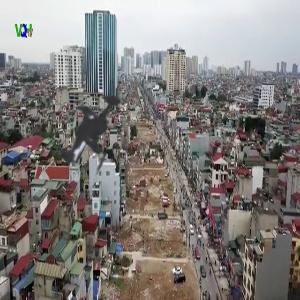drone: (4, 47, 168, 211)
